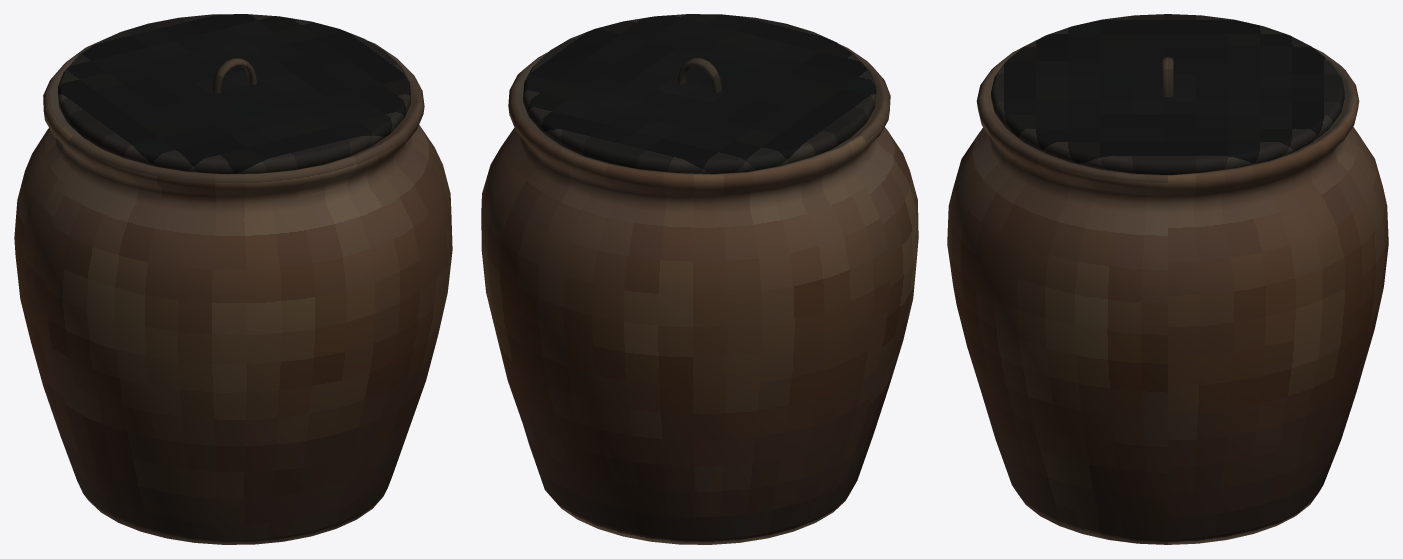
Rendered from morph-jar.glb.
The picture shows the model from 3 angles, left to right: view 1: azimuth 30°, elevation 25°; view 2: azimuth 150°, elevation 25°; view 3: azimuth 270°, elevation 25°; orthographic projection.
Parts seen in each view (by area): view 1: OPM0042_OPM0042_0; view 2: OPM0042_OPM0042_0; view 3: OPM0042_OPM0042_0.
Boxes of the visible parts, <box> form: OPM0042_OPM0042_0: <box>14,14,452,544</box>; OPM0042_OPM0042_0: <box>481,14,918,544</box>; OPM0042_OPM0042_0: <box>947,14,1388,544</box>.
Size of the model in its own units: 0.1992 by 0.2109 by 0.2006.
Materials: 1 (1 with a texture image).
